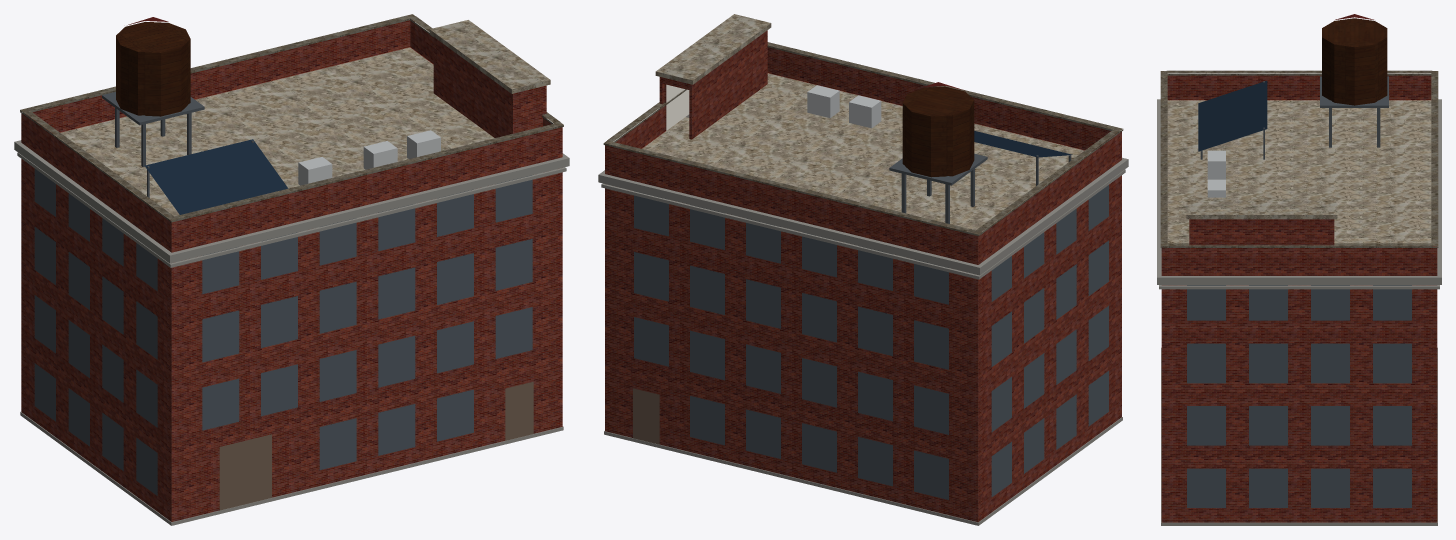
Rendered from mh-mill-lofts.zfix-v22.lod1.glb.
3 views of the same model, side by side, from view 1: azimuth 30°, elevation 25°; view 2: azimuth 150°, elevation 25°; view 3: azimuth 270°, elevation 25° (orthographic). The views are drawn at different scales.
Parts seen in each view (by area): view 1: mh-mill-lofts; view 2: mh-mill-lofts; view 3: mh-mill-lofts.
Boxes of the visible parts, left/top/right/bottom form: mh-mill-lofts: left=14, top=14, right=569, bottom=525; mh-mill-lofts: left=598, top=14, right=1128, bottom=525; mh-mill-lofts: left=1157, top=14, right=1441, bottom=525.
Size of the model in its own units: 18.4 by 18.05 by 12.4.
4 materials, 3 textured.
